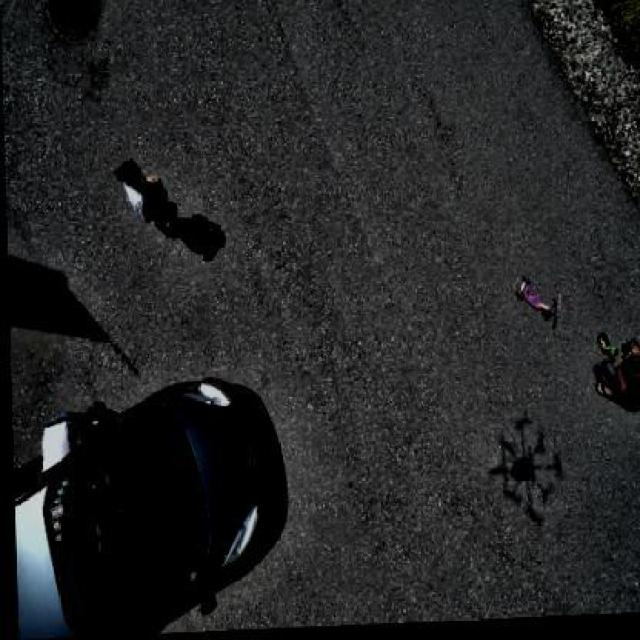Person: (108, 155, 186, 250), (580, 332, 638, 420)
